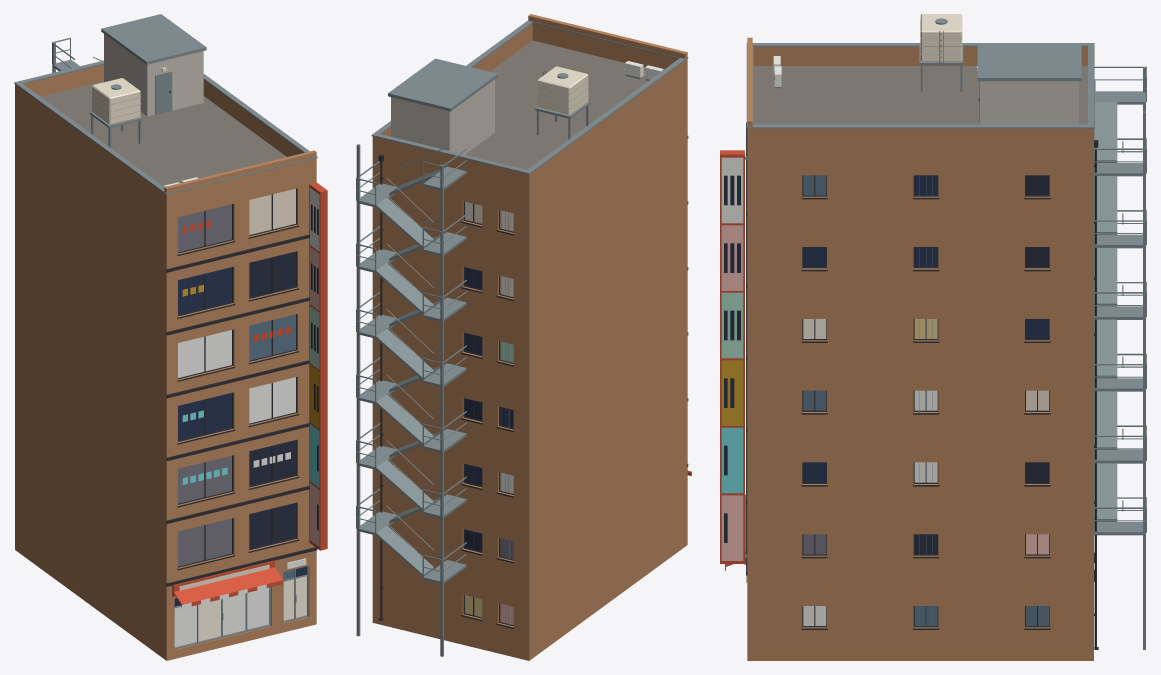
File: tb_tenant_building_7f_01_b.fbx
3 renders of one model, left to right at view 1: azimuth 30°, elevation 25°; view 2: azimuth 150°, elevation 25°; view 3: azimuth 270°, elevation 25°, orthographic. The views are drawn at different scales.
Visible parts, largest first — view 1: tb_tenant_building_7f_01_b; view 2: tb_tenant_building_7f_01_b; view 3: tb_tenant_building_7f_01_b.
Part boxes in pixels (<box>): tb_tenant_building_7f_01_b: <box>14,14,327,660</box>; tb_tenant_building_7f_01_b: <box>356,14,691,660</box>; tb_tenant_building_7f_01_b: <box>720,14,1146,660</box>.
Size of what is drawn, in the model's own units: 8.09 by 25.75 by 17.24.
Materials: 3 (3 with a texture image).
